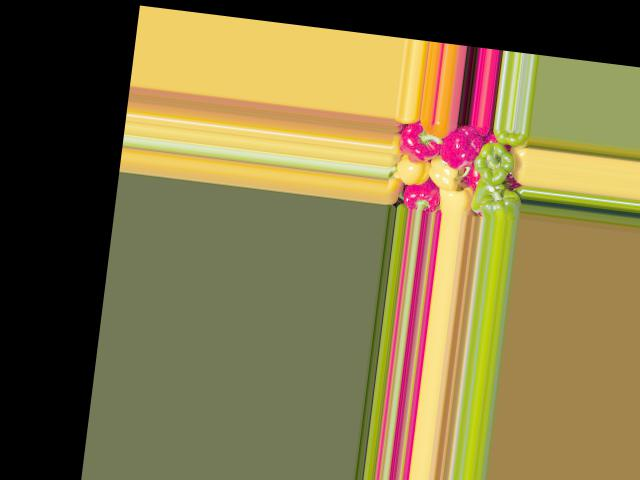bell_pepper: (490, 127, 530, 153)
